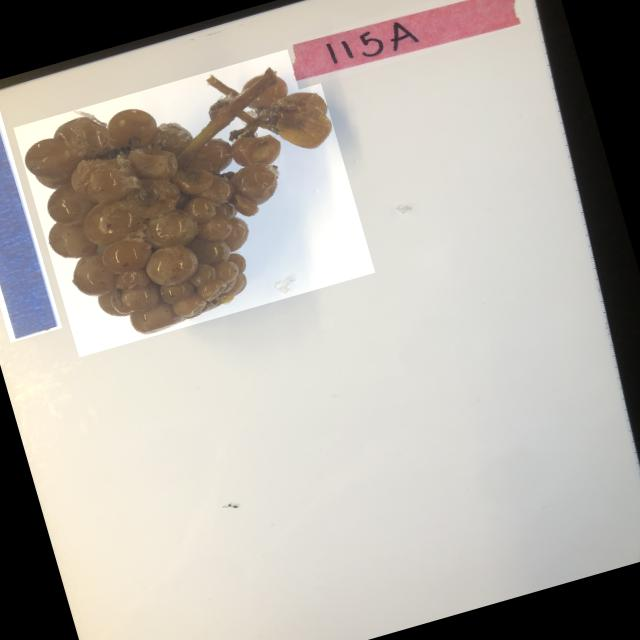grape_cluster: (13, 42, 376, 357)
index: (285, 0, 525, 89)
measure_label: (0, 103, 62, 342)
